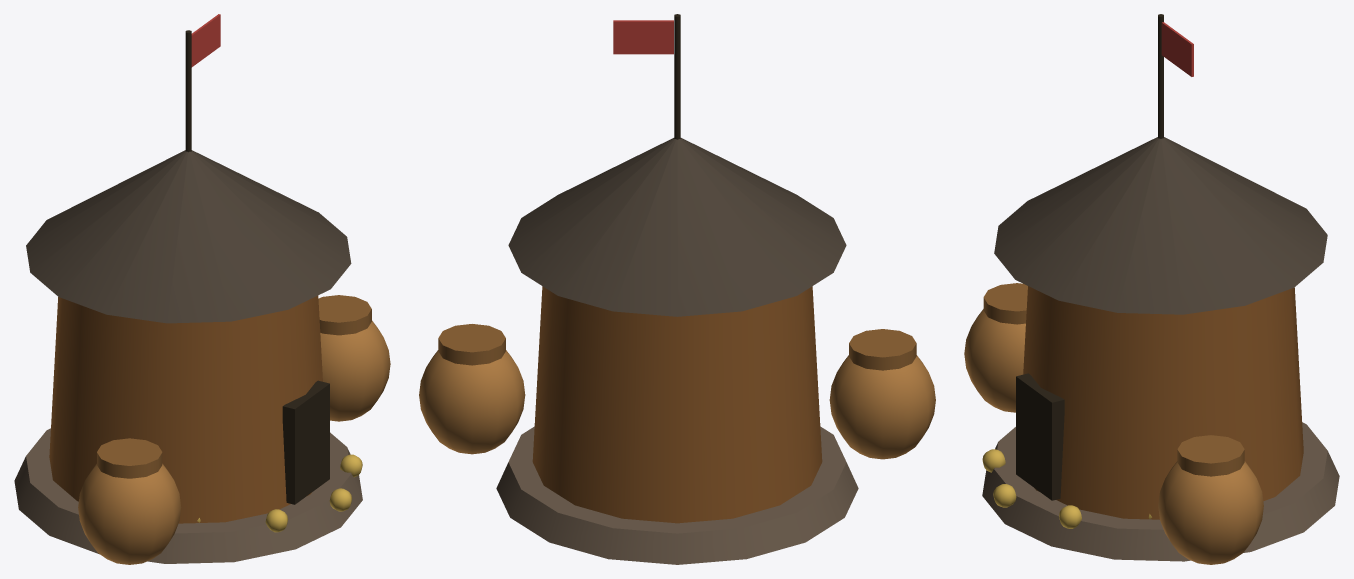
Rendered from granary.glb.
3 views of the same model, side by side, from view 1: azimuth 30°, elevation 25°; view 2: azimuth 150°, elevation 25°; view 3: azimuth 270°, elevation 25° (orthographic). The views are drawn at different scales.
Size of the model in its own units: 1.94 by 2.16 by 1.56.
